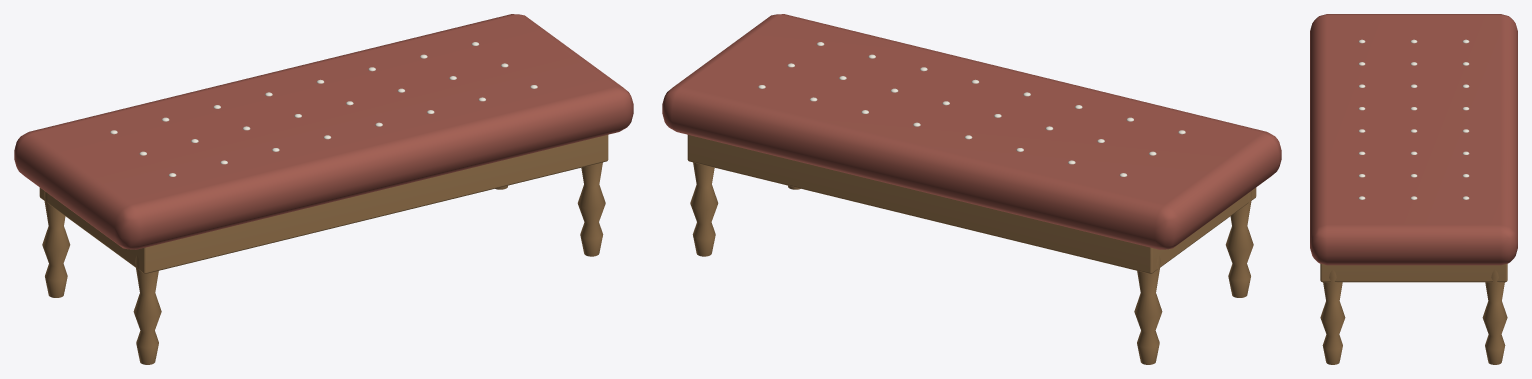
Rendered from wh-traditional-arabic-ottoman.glb.
3 renders of one model, left to right at view 1: azimuth 30°, elevation 25°; view 2: azimuth 150°, elevation 25°; view 3: azimuth 270°, elevation 25°, orthographic. The views are drawn at different scales.
Parts seen in each view (by area): view 1: Bench upholstered top.003, Turned table leg.020, Upholstery button.048; view 2: Bench upholstered top.003, Turned table leg.020, Upholstery button.048; view 3: Bench upholstered top.003, Turned table leg.020, Upholstery button.048.
Boxes of the visible parts, x1,y1,x2,y2 form: Bench upholstered top.003: (14, 14, 633, 249); Turned table leg.020: (39, 135, 608, 364); Upholstery button.048: (110, 42, 537, 176); Bench upholstered top.003: (662, 14, 1281, 249); Turned table leg.020: (687, 135, 1256, 364); Upholstery button.048: (758, 42, 1185, 176); Bench upholstered top.003: (1310, 14, 1517, 265); Turned table leg.020: (1320, 263, 1507, 364); Upholstery button.048: (1358, 39, 1469, 199).
Size of the model in its own units: 1.4 by 0.43 by 0.55.
